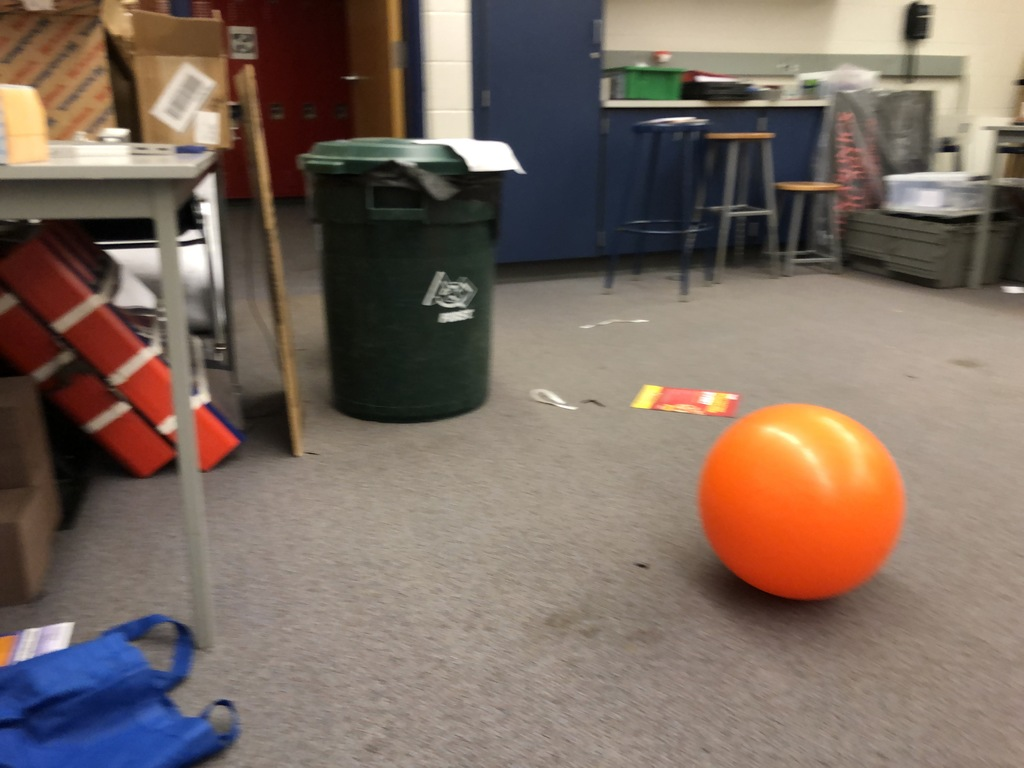cargo: (696, 398, 915, 608)
